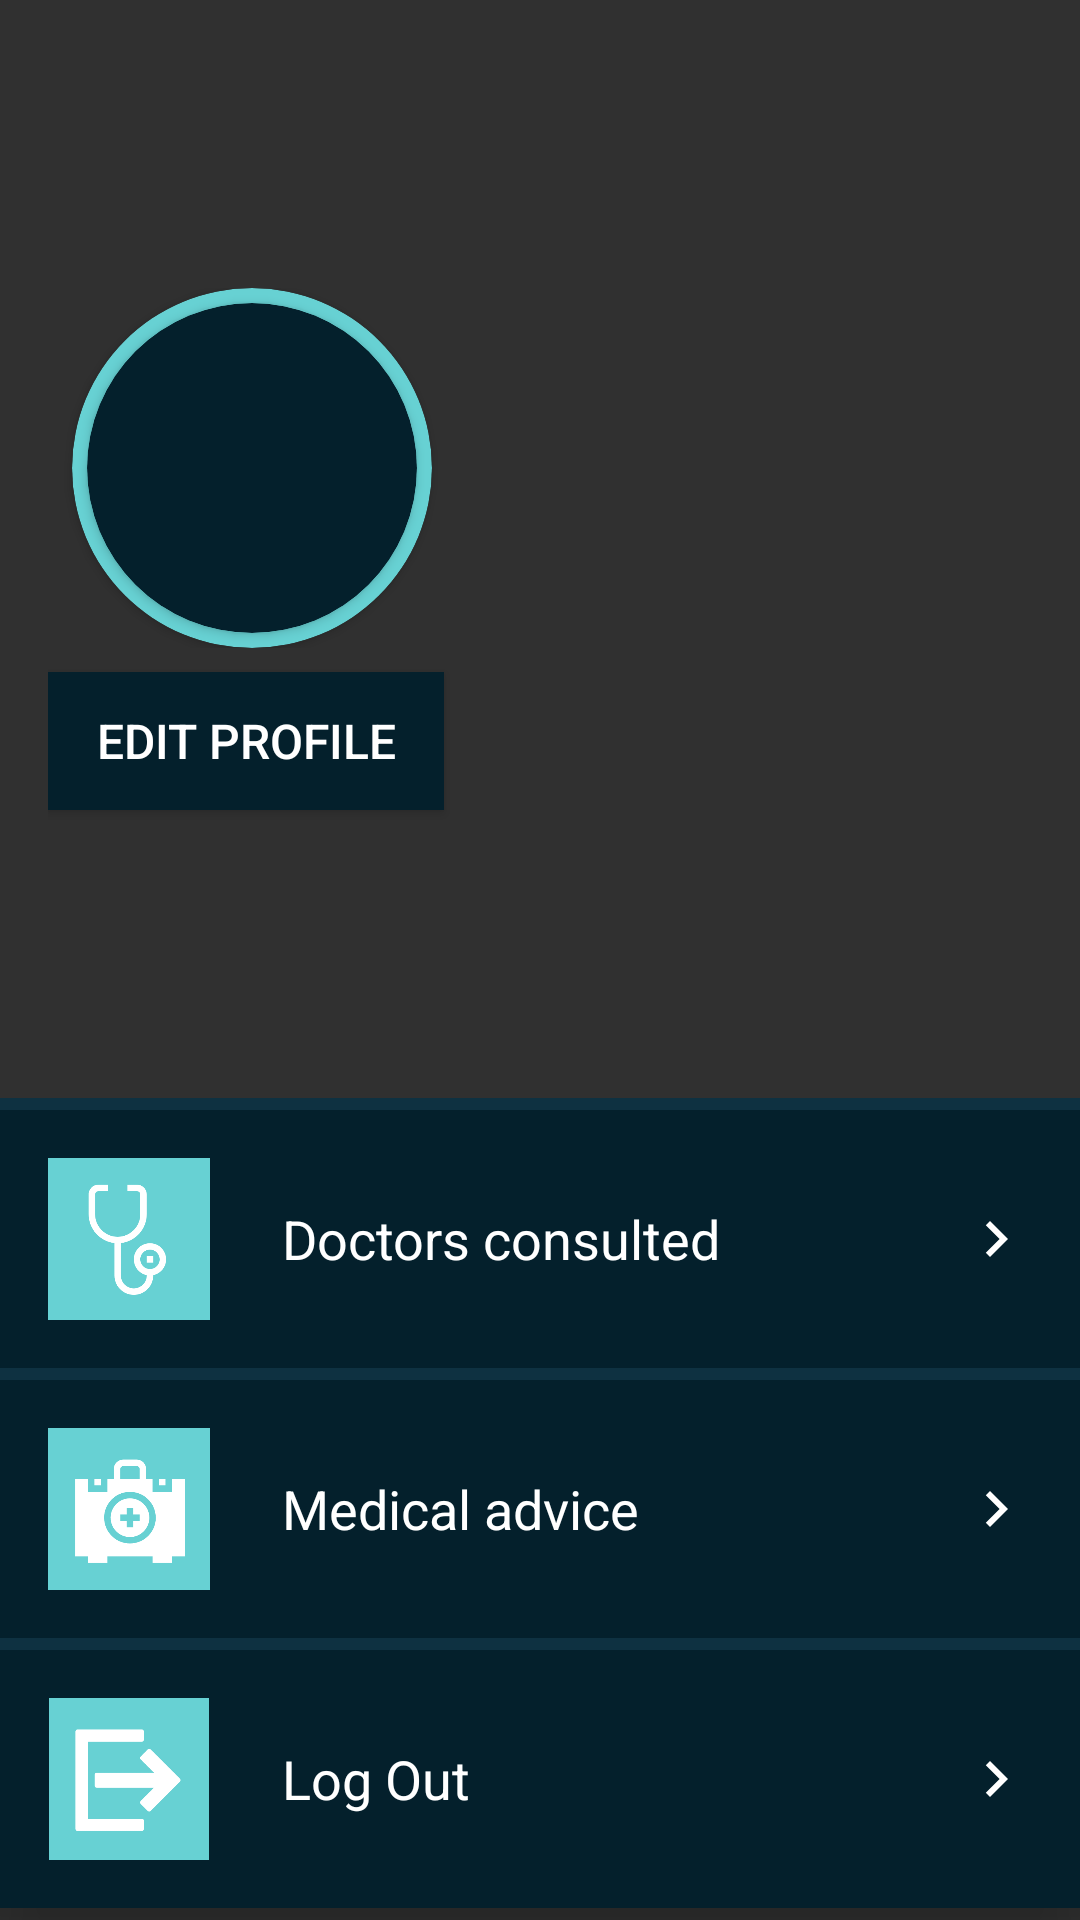

Locate icon controls on the screen. Image size 1080 × 1920, boxes as rect(x1, y1, x2, y2).
chevron right: rect(986, 1221, 1008, 1257), rect(986, 1491, 1008, 1527), rect(986, 1761, 1008, 1797)
